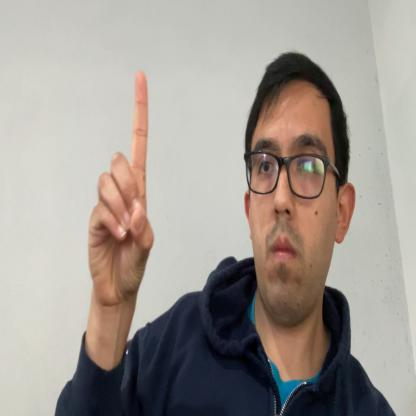D: (88, 70, 155, 309)
